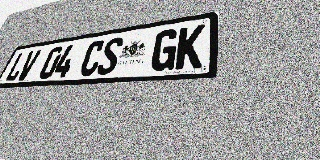0: (37, 46, 65, 79)
4: (51, 44, 79, 78)
C: (78, 39, 106, 76)
G: (149, 28, 180, 71)
K: (174, 24, 205, 70)
L: (4, 51, 30, 82)
S: (95, 37, 125, 75)
V: (15, 49, 42, 81)
